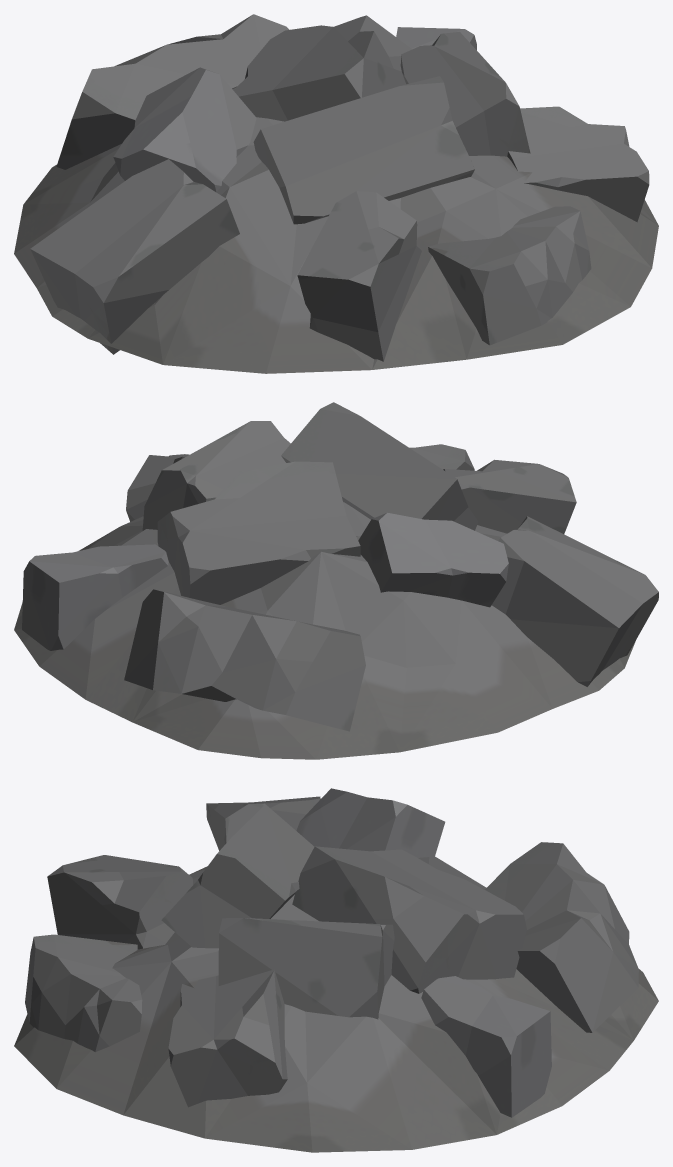
File: SM_Bld_Tower_Damaged_Insert_01.fbx
3 views of the same model, one above another, from view 1: azimuth 30°, elevation 25°; view 2: azimuth 150°, elevation 25°; view 3: azimuth 270°, elevation 25° (orthographic). The views are drawn at different scales.
Parts seen in each view (by area): view 1: SM_Bld_Tower_Damaged_Insert_01; view 2: SM_Bld_Tower_Damaged_Insert_01; view 3: SM_Bld_Tower_Damaged_Insert_01.
Boxes of the visible parts, <box> form: SM_Bld_Tower_Damaged_Insert_01: <box>14,14,658,373</box>; SM_Bld_Tower_Damaged_Insert_01: <box>14,402,658,759</box>; SM_Bld_Tower_Damaged_Insert_01: <box>14,788,658,1152</box>.
Size of the model in its own units: 526 by 181 by 503.
Materials: 1 (1 with a texture image).
